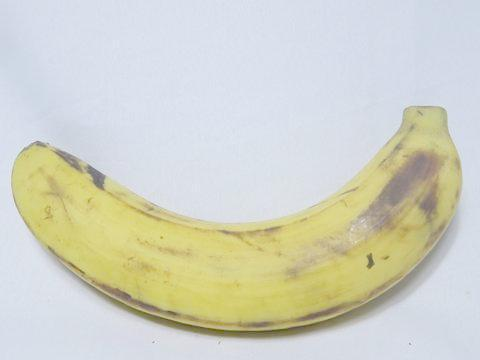overripe: (7, 94, 464, 344)
